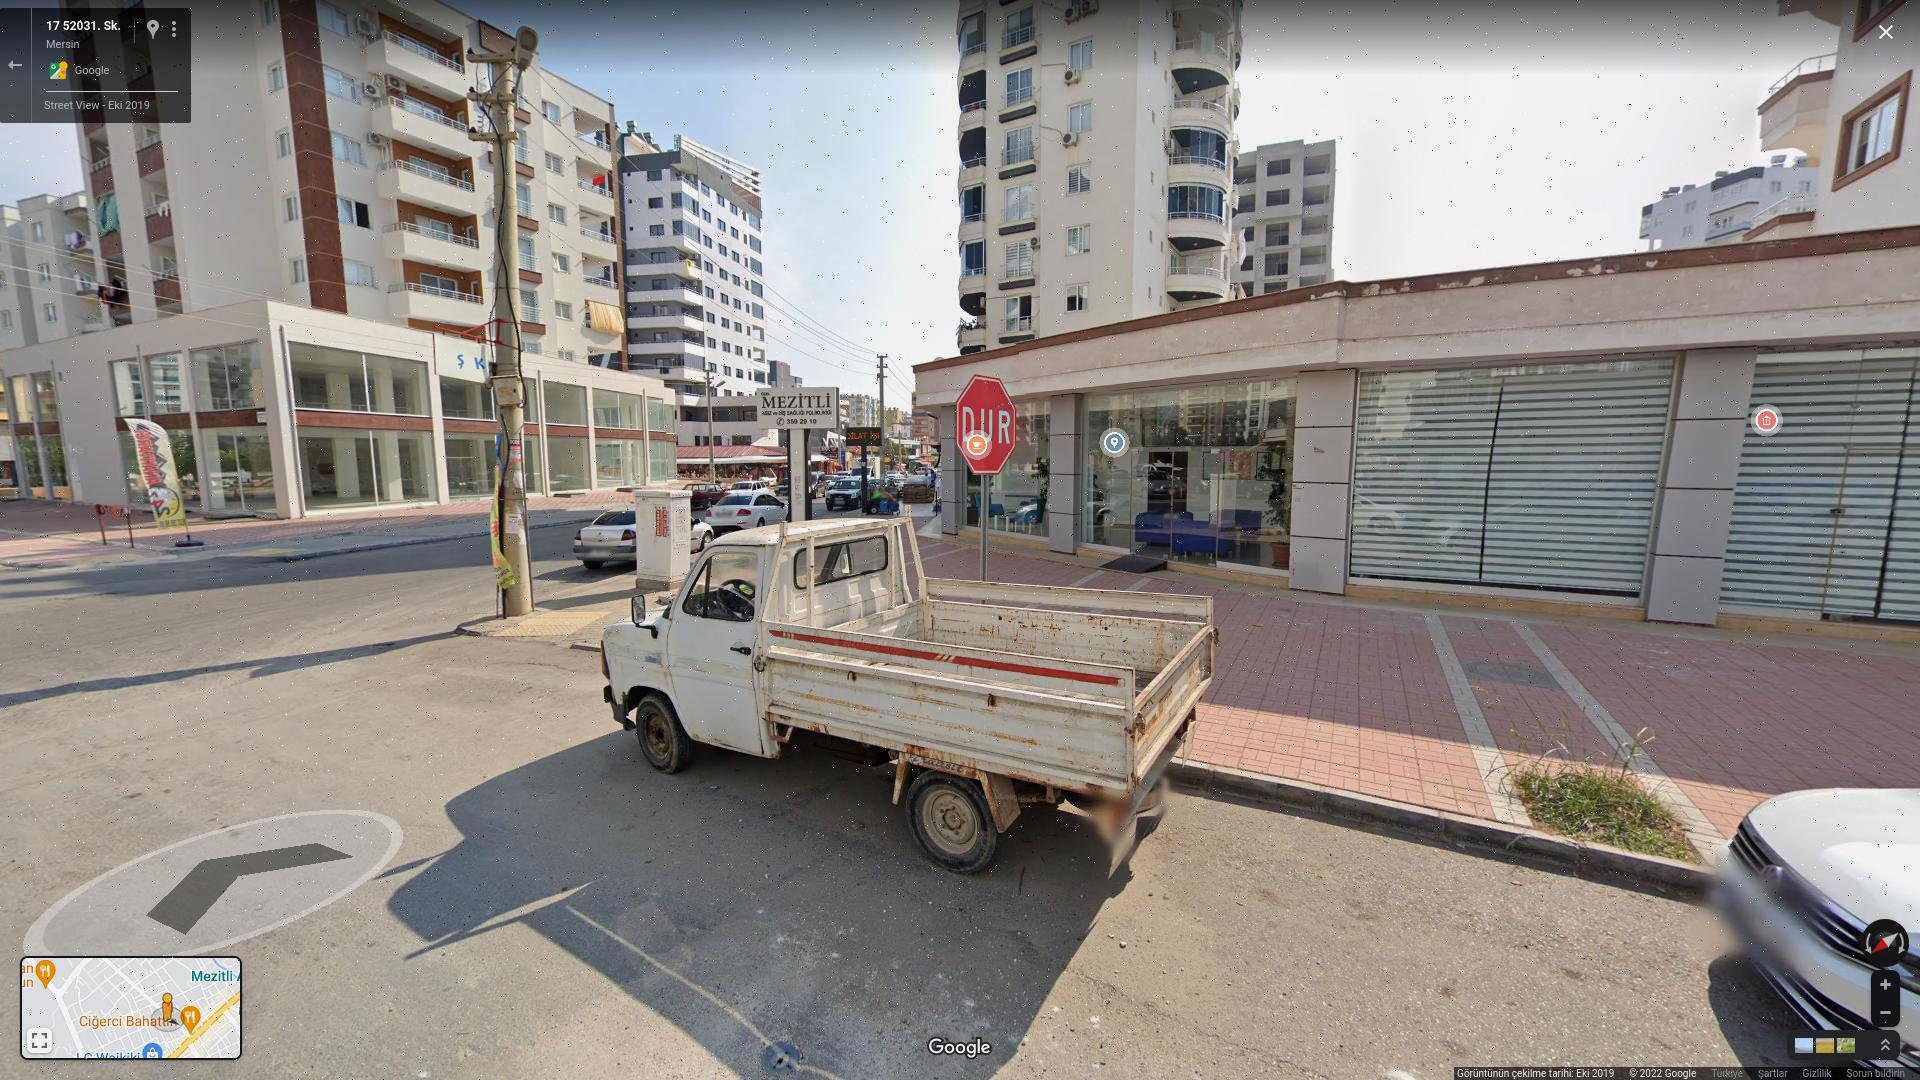stop: (956, 376, 1018, 475)
